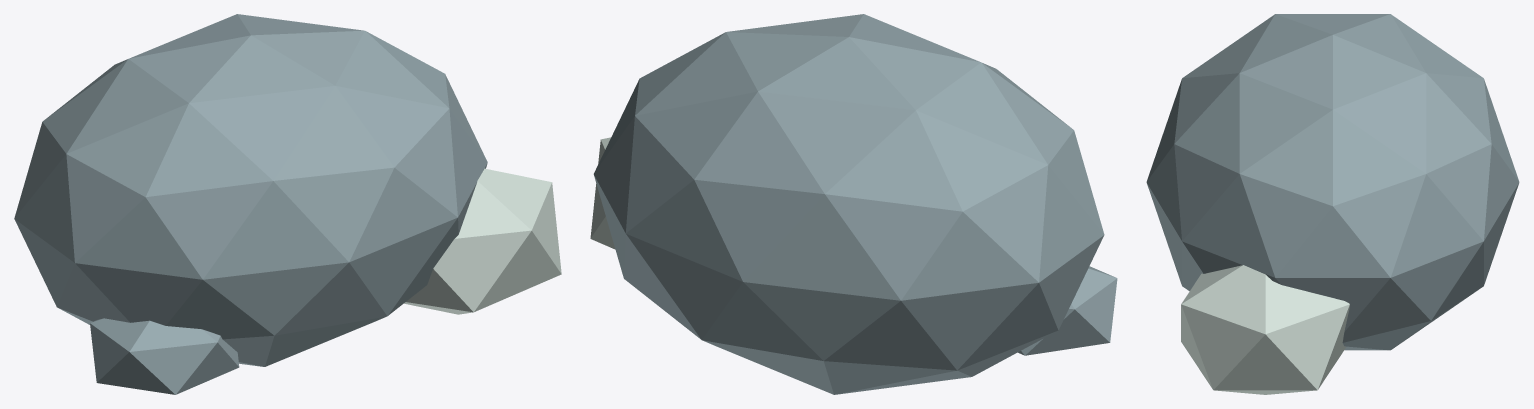
File: SM_Rock.fbx
The picture shows the model from 3 angles, left to right: view 1: azimuth 30°, elevation 25°; view 2: azimuth 150°, elevation 25°; view 3: azimuth 270°, elevation 25°; orthographic projection. The views are drawn at different scales.
Parts seen in each view (by area): view 1: Main faceted rock, Small rock, Rock foot; view 2: Main faceted rock, Rock foot, Small rock; view 3: Main faceted rock, Small rock.
Boxes of the visible parts, <box> form: Main faceted rock: <box>14,14,487,366</box>; Small rock: <box>404,168,561,314</box>; Rock foot: <box>90,318,239,394</box>; Main faceted rock: <box>593,14,1104,394</box>; Rock foot: <box>1018,266,1117,355</box>; Small rock: <box>590,137,615,249</box>; Main faceted rock: <box>1146,14,1519,350</box>; Small rock: <box>1181,265,1349,394</box>.
Bounding box in the file's own units: 2.61 × 1.64 × 1.88.
